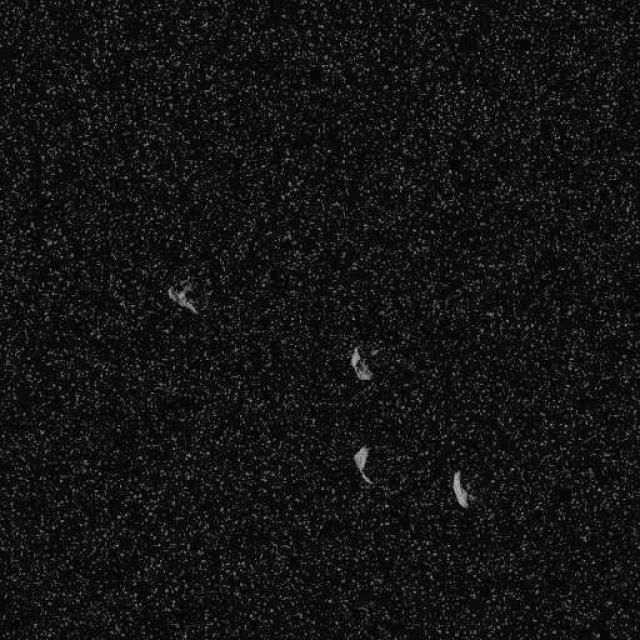D2: (165, 280, 199, 315), (351, 444, 374, 485), (348, 345, 373, 381), (450, 469, 471, 509)
